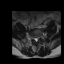CCS_normal: (35, 36, 37, 43)
LFS_normal: (38, 35, 40, 41)
LLS_normal: (37, 36, 38, 42)
RFS_normal: (32, 36, 34, 41)
RLS_normal: (34, 36, 35, 41)
